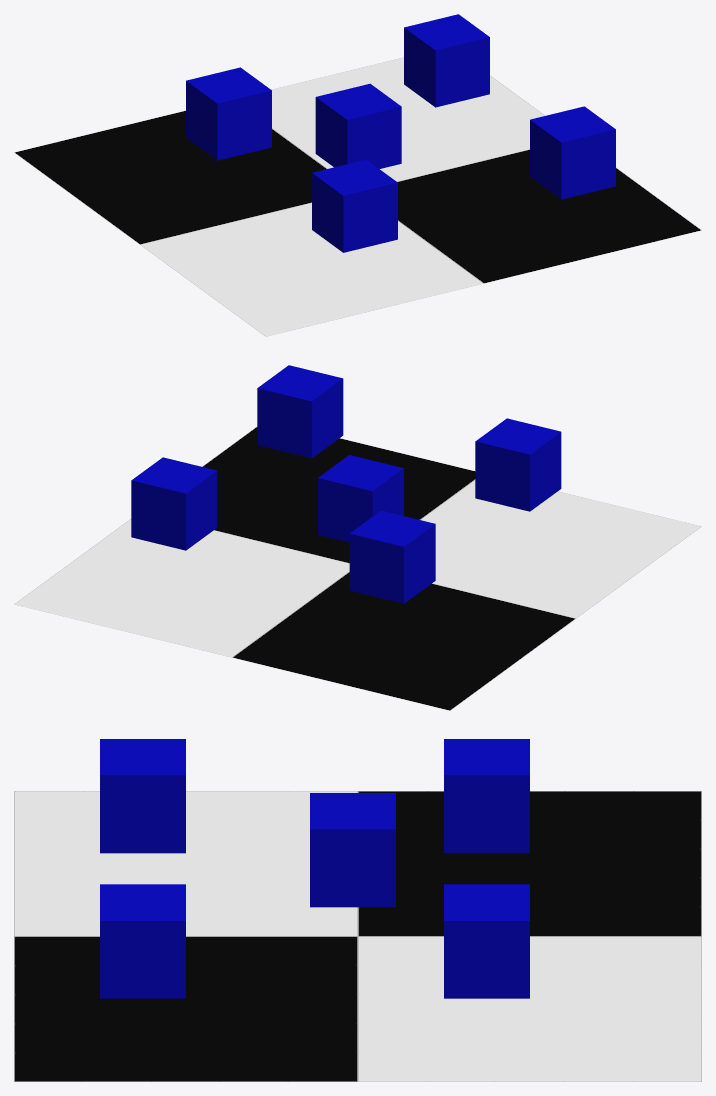
File: Cubes.dae
3 views of the same model, one above another, from view 1: azimuth 30°, elevation 25°; view 2: azimuth 150°, elevation 25°; view 3: azimuth 270°, elevation 25° (orthographic). The views are drawn at different scales.
Visible parts, largest first — view 1: pPlane1, pCube4, pCube3, pCube2, pCube1, pCube5; view 2: pPlane1, pCube3, pCube4, pCube1, pCube2, pCube5; view 3: pPlane1, pCube1, pCube2, pCube3, pCube4, pCube5.
Boxes of the visible parts, x1,y1,x2,y2 form: pPlane1: [14, 57, 701, 336]; pCube4: [312, 159, 397, 252]; pCube3: [530, 106, 615, 199]; pCube2: [404, 14, 489, 107]; pCube1: [186, 67, 271, 160]; pCube5: [315, 83, 401, 168]; pPlane1: [14, 426, 701, 710]; pCube3: [257, 365, 343, 458]; pCube4: [475, 418, 561, 511]; pCube1: [349, 510, 435, 603]; pCube2: [131, 457, 217, 550]; pCube5: [318, 455, 403, 542]; pPlane1: [14, 791, 701, 1081]; pCube1: [444, 739, 529, 853]; pCube2: [444, 884, 529, 998]; pCube3: [100, 884, 185, 998]; pCube4: [100, 739, 185, 853]; pCube5: [310, 793, 395, 907].
Bounding box in the file's own units: 200 × 200 × 40.
2 materials, 1 textured.
